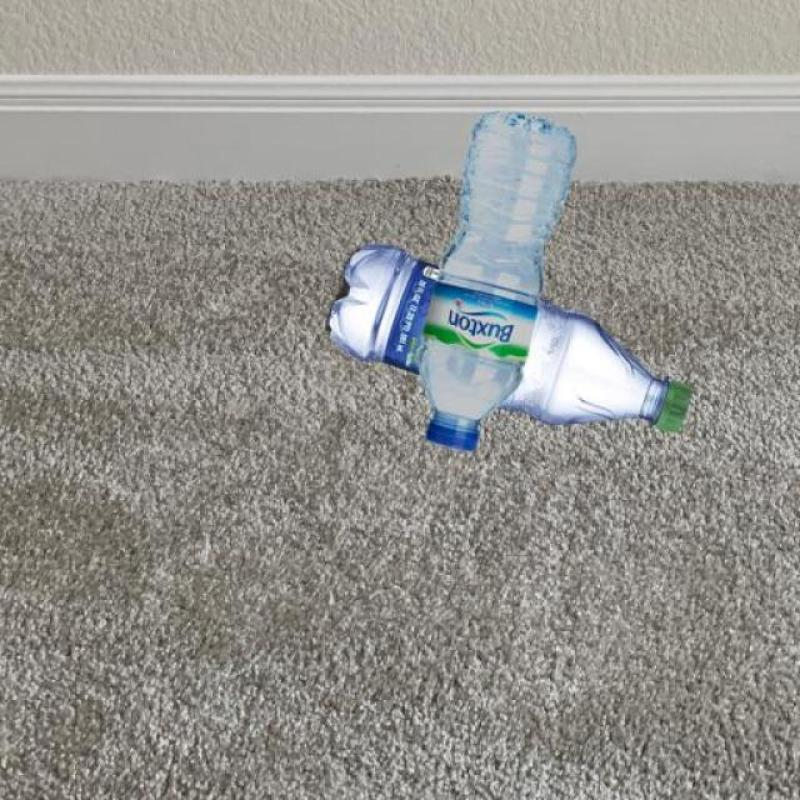botella: (323, 244, 692, 438), (424, 110, 578, 452)
